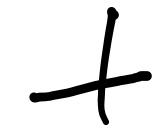plus: (30, 7, 152, 125)
